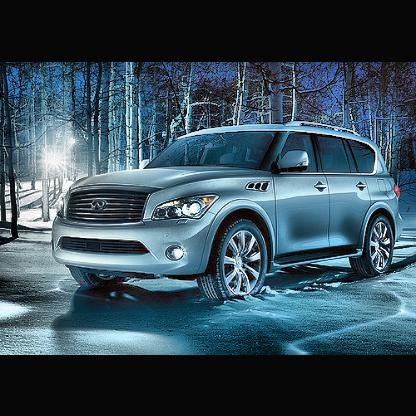Infiniti QX56 SUV 2011: (52, 118, 407, 306)
